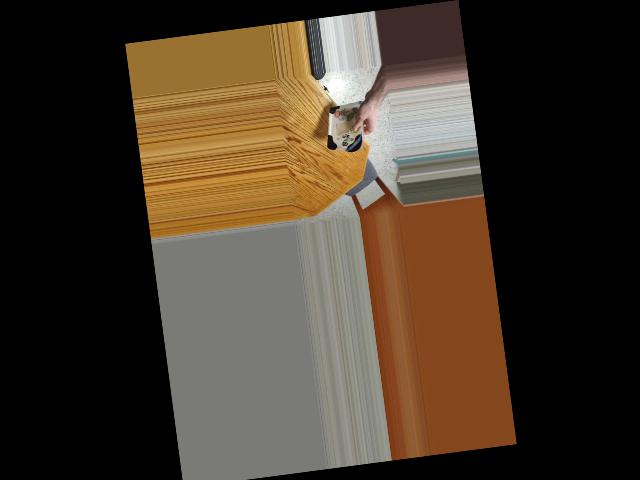cheese: (321, 99, 372, 156)
